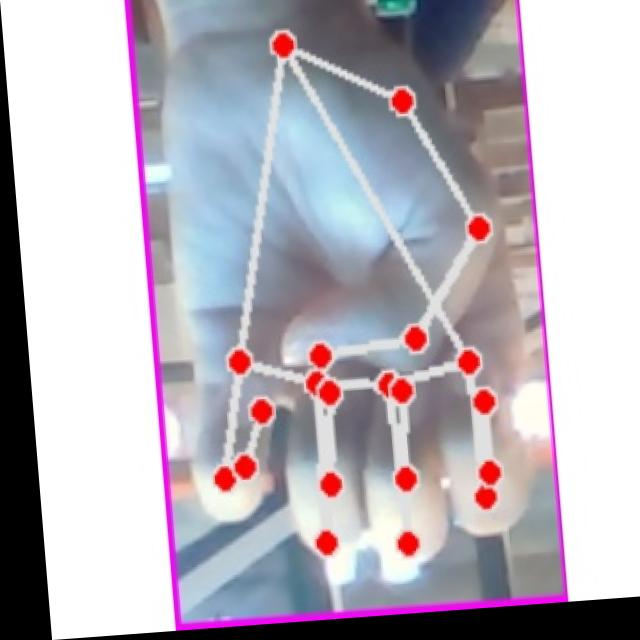E: (137, 0, 543, 585)
